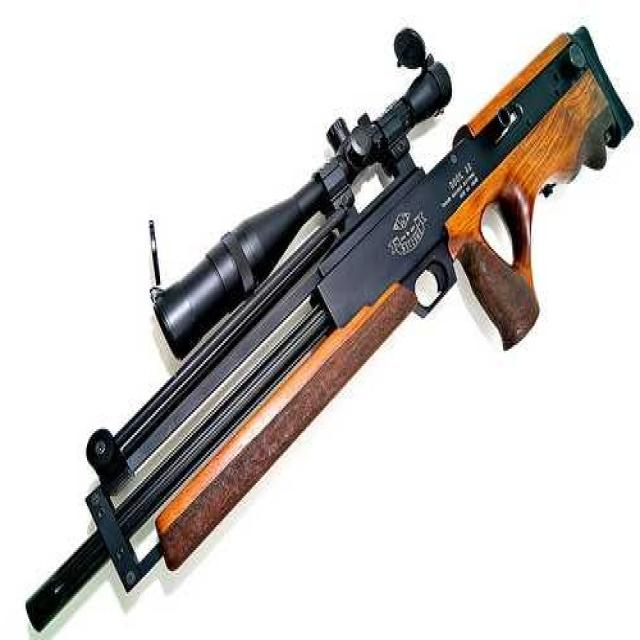heavyweapon: (17, 5, 634, 633)
